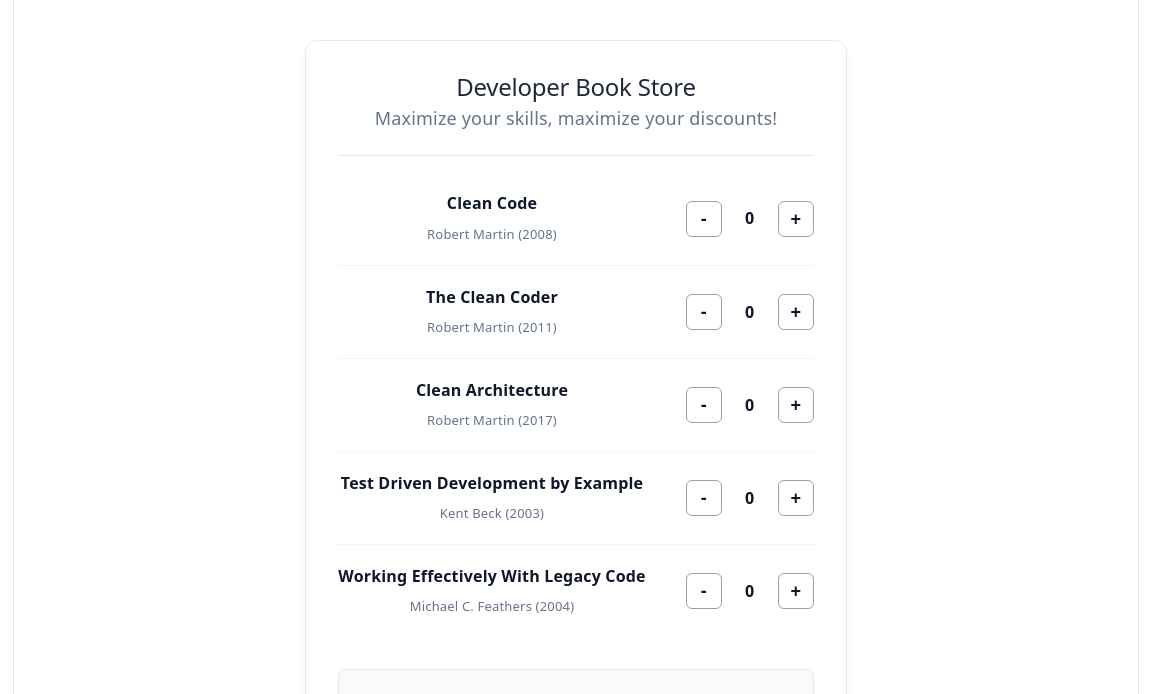
BookBasket UI - Quantity Manipulations › should increase individual quantity field displays from 0 to 1 upon clicking plus button
Click the button named "Increase" at [796, 218], box [778,200,814,236]
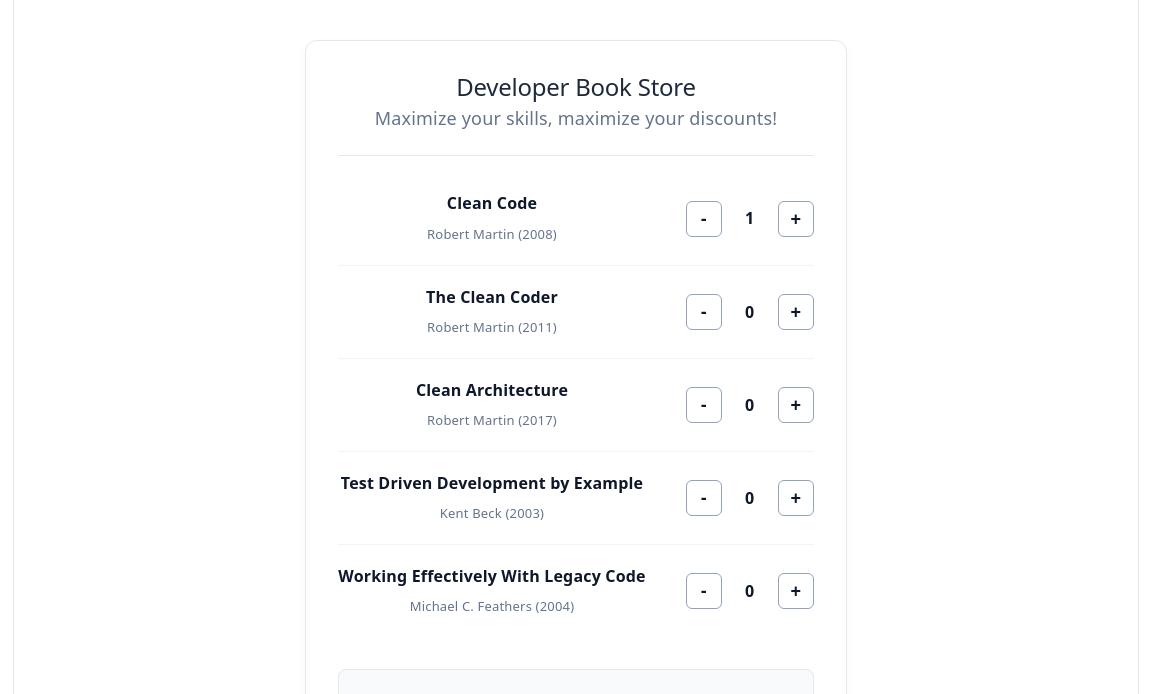
Result: the text "1" in the row of "2008" is shown at [745,208,754,230]
